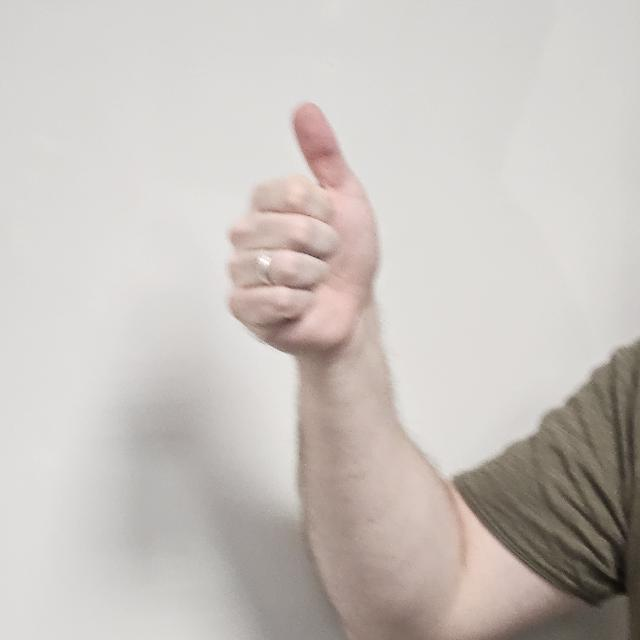Start: (225, 101, 382, 366)
